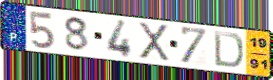4: (105, 18, 133, 59)
5: (28, 9, 58, 50)
7: (179, 25, 210, 66)
8: (63, 16, 92, 53)
D: (212, 29, 245, 70)
X: (137, 21, 172, 63)
